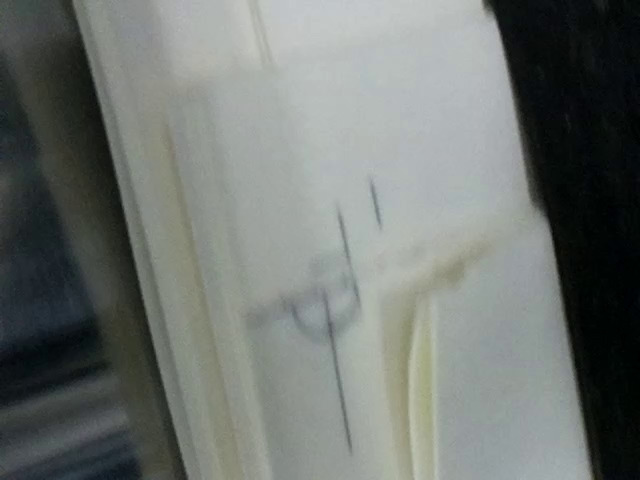not_sure: (246, 205, 375, 353)
